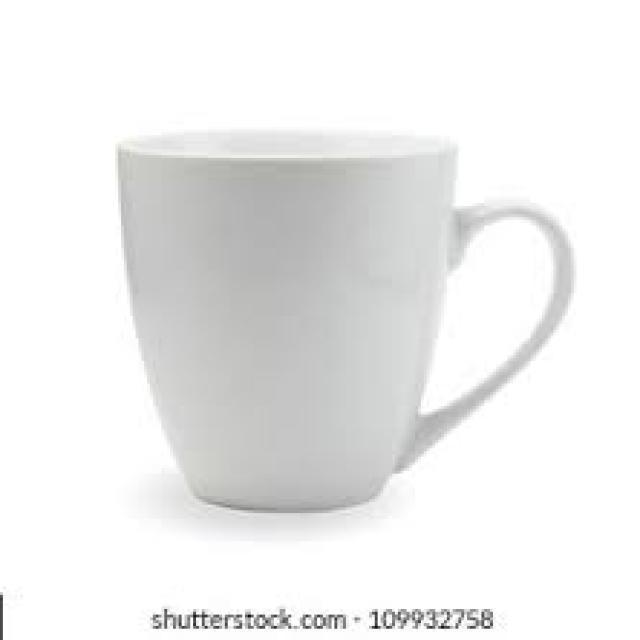taza: (107, 115, 583, 532)
